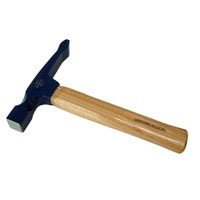hammer: (5, 39, 189, 159)
